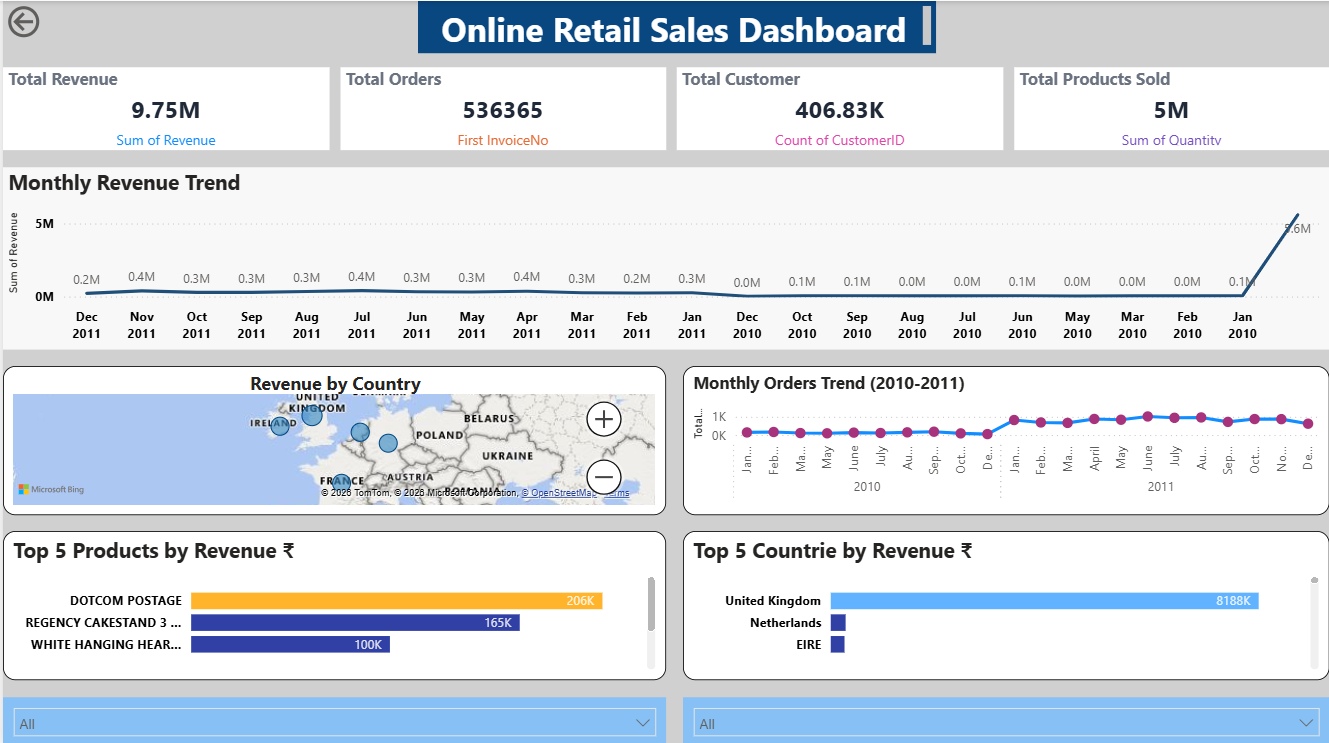

The dashboard page shown, as its layout file describes it:
{"tool":"powerbi","page":{"name":"Page 1","canvas":[1280,720],"ordinal":0},"visuals":[{"type":"lineChart","title":"Monthly Revenue Trend","fields":{"Y":["Sum(cleaned_retail_data.Revenue)"],"Category":["cleaned_retail_data.MonthYear"]},"box":[0,160,1280,176],"z":0},{"type":"clusteredBarChart","title":"Top 5 Products by Revenue ₹","fields":{"Category":["cleaned_retail_data.Description"],"Y":["Sum(cleaned_retail_data.Revenue)"]},"box":[0,512,640,144],"z":1000},{"type":"card","title":"Total Revenue","fields":{"Values":["Sum(cleaned_retail_data.Revenue)"]},"box":[0,64,315,80],"z":2000},{"type":"card","title":"Total Customer","fields":{"Values":["CountNonNull(cleaned_retail_data.CustomerID)"]},"box":[650.3,64,315,80],"z":3000},{"type":"card","title":"Total Orders","fields":{"Values":["Min(cleaned_retail_data.InvoiceNo)"]},"box":[325.7,64,314,80],"z":4000},{"type":"slicer","title":"Month Filter","fields":{"Values":["cleaned_retail_data.MonthYear"]},"box":[0,672,640,48],"z":5000},{"type":"textbox","box":[400,0,500,50],"z":6000},{"type":"card","title":"Total Products Sold ","fields":{"Values":["Sum(cleaned_retail_data.Quantity)"]},"box":[976,64,304,80],"z":7000},{"type":"map","title":"Revenue by Country","fields":{"Category":["cleaned_retail_data.Country"],"Size":["cleaned_retail_data.Log Revenue"]},"box":[0,352,640,144],"z":8000},{"type":"lineChart","title":"Monthly Orders Trend (2010-2011)","fields":{"Y":["cleaned_retail_data.Total Orders"],"Category":["cleaned_retail_data.InvoiceDate.Variation.Date Hierarchy.Year","cleaned_retail_data.InvoiceDate.Variation.Date Hierarchy.Month"]},"box":[656,352,624,144],"z":9000},{"type":"actionButton","box":[0,0,100,40],"z":10000},{"type":"clusteredBarChart","title":"Top 5 Countrie by Revenue ₹","fields":{"Category":["cleaned_retail_data.Country"],"Y":["Sum(cleaned_retail_data.Revenue)"]},"box":[656,512,624,144],"z":11000},{"type":"slicer","title":"Month Filter","fields":{"Values":["cleaned_retail_data.Country"]},"box":[656,672,624,48],"z":12000}]}

Visuals, with their boxes in screenshot pixels (x1, y1, x2, y2), scaled from the page's 1280x720 canvas onto the 1329x743 screenshot:
"Monthly Revenue Trend" lineChart: 0:165:1328:347
"Top 5 Products by Revenue ₹" clusteredBarChart: 0:528:664:677
"Total Revenue" card: 0:66:327:149
"Total Customer" card: 675:66:1002:149
"Total Orders" card: 338:66:664:149
"Month Filter" slicer: 0:693:664:742
textbox: 415:0:934:52
"Total Products Sold " card: 1013:66:1328:149
"Revenue by Country" map: 0:363:664:512
"Monthly Orders Trend (2010-2011)" lineChart: 681:363:1328:512
actionButton: 0:0:104:41
"Top 5 Countrie by Revenue ₹" clusteredBarChart: 681:528:1328:677
"Month Filter" slicer: 681:693:1328:742
